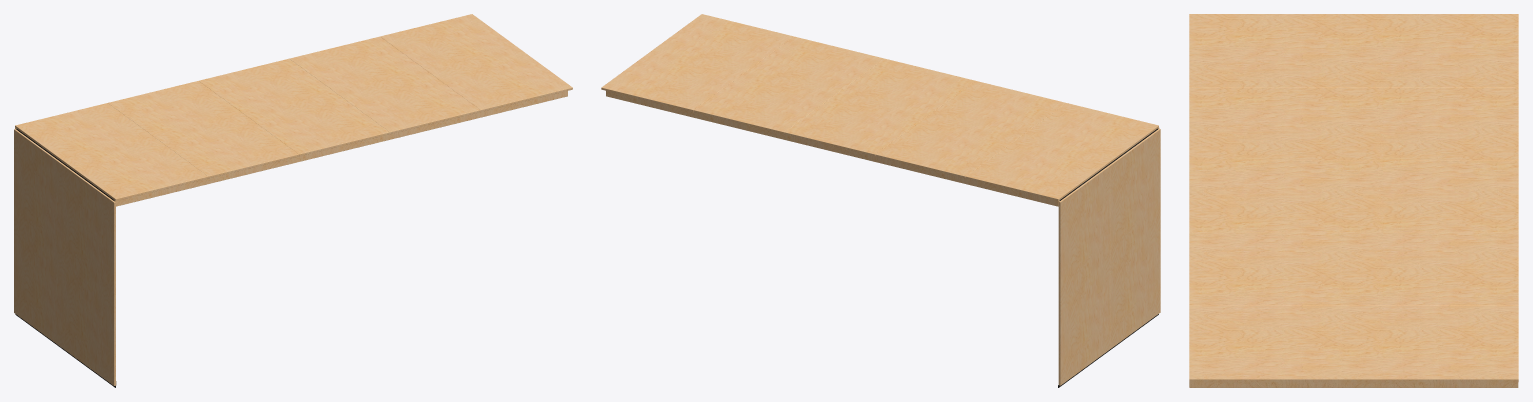
The model's file is rear-top-plywood.glb.
3 views of the same model, side by side, from view 1: azimuth 30°, elevation 25°; view 2: azimuth 150°, elevation 25°; view 3: azimuth 270°, elevation 25° (orthographic). The views are drawn at different scales.
Parts seen in each view (by area): view 1: 20FT Blank_PlywoodWall_RearTop_01; view 2: 20FT Blank_PlywoodWall_RearTop_01; view 3: 20FT Blank_PlywoodWall_RearTop_01.
Part boxes in pixels (x1,y1,x2,y2): 20FT Blank_PlywoodWall_RearTop_01: (14, 14, 572, 387); 20FT Blank_PlywoodWall_RearTop_01: (601, 14, 1160, 387); 20FT Blank_PlywoodWall_RearTop_01: (1189, 14, 1518, 387).
Size of the model in its own units: 5.88 by 2.32 by 2.23.
2 materials, 1 textured.
